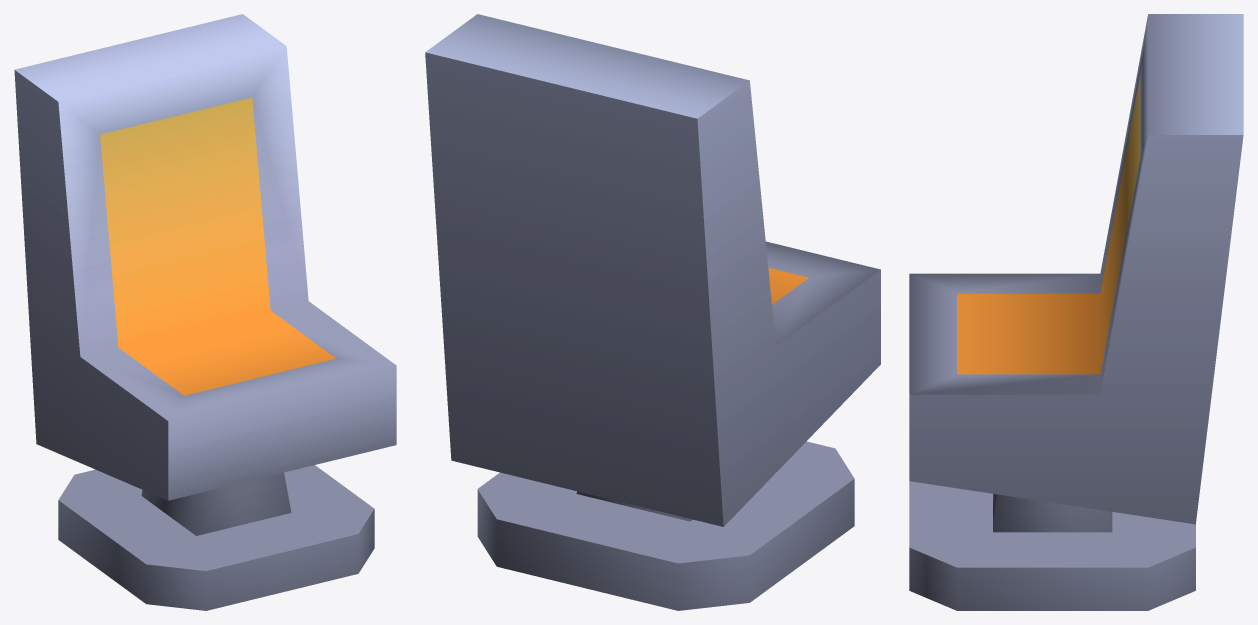
The model's file is station-chair.glb.
3 views of the same model, side by side, from view 1: azimuth 30°, elevation 25°; view 2: azimuth 150°, elevation 25°; view 3: azimuth 270°, elevation 25° (orthographic). The views are drawn at different scales.
Visible parts, largest first — view 1: chair-cushion; view 2: chair-cushion; view 3: chair-cushion.
Boxes of the visible parts, left/top/right/bottom form: chair-cushion: left=14, top=14, right=396, bottom=610; chair-cushion: left=425, top=14, right=880, bottom=610; chair-cushion: left=909, top=14, right=1243, bottom=610.
Size of the model in its own units: 0.3 by 0.55 by 0.35.
1 material, 1 textured.
